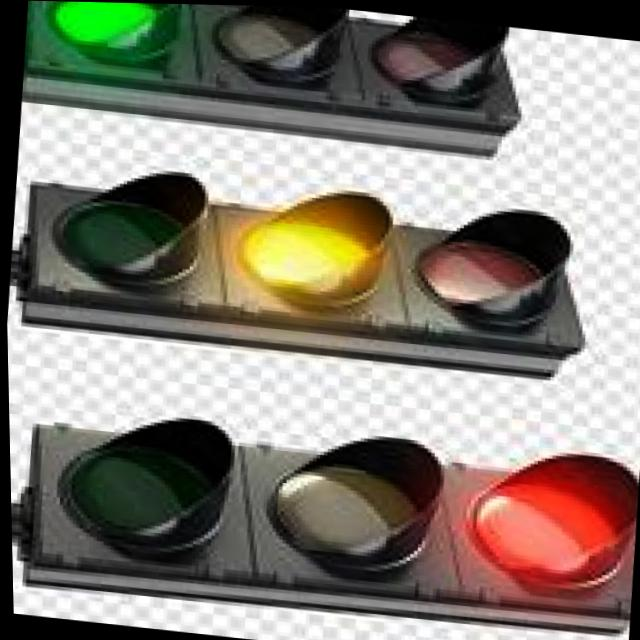green_light: (21, 0, 196, 79)
red_light: (448, 411, 640, 639)
yellow_light: (170, 153, 397, 398)
